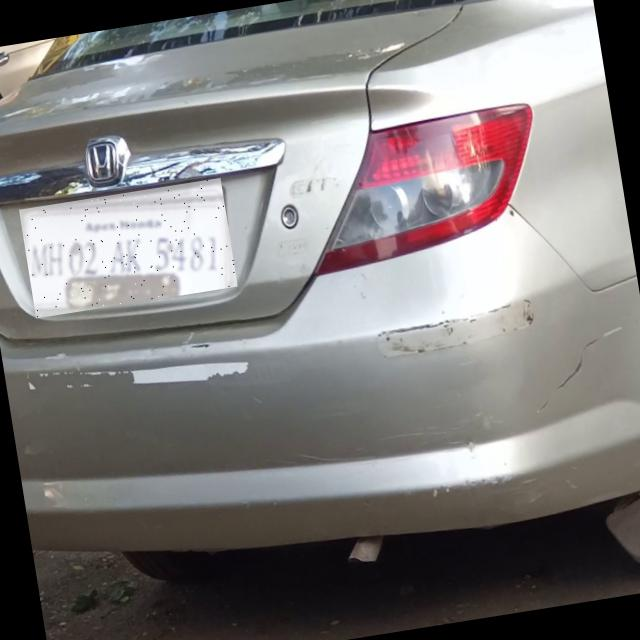Plate: (21, 179, 240, 320)
